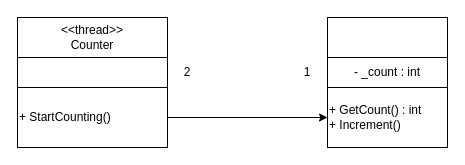
The diagram is 465 pixels wide and 165 high, and some of its shapes have lost their labels. The centre of each missing label's shape, as x and y in pixels:
- _numberOfTimesToLoop: the point at 92,72
TotalCount: the point at 387,37
